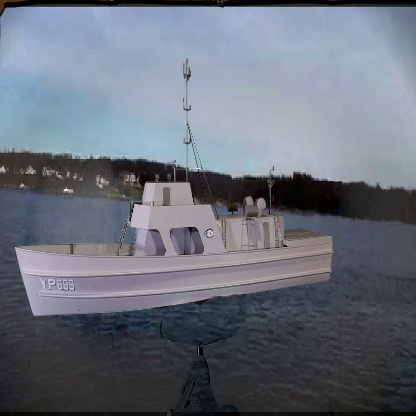YP689: (14, 51, 339, 320)
